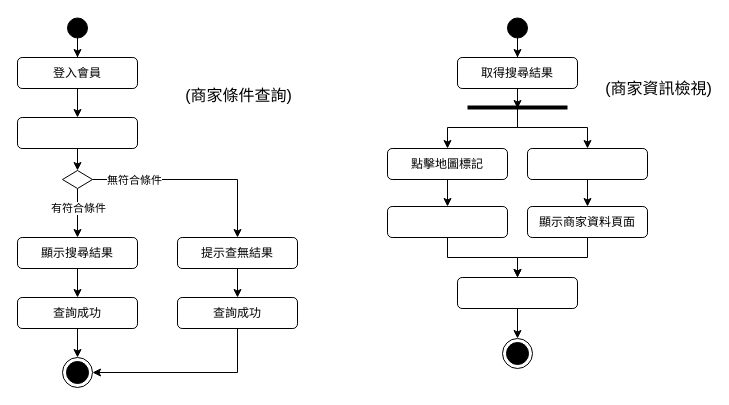
Image size: 729x405. Some labels were removed from this diagram. The centre of each missing label's shape, as x and y in pixels:
"檢視完畢" belongs at point (517, 292).
"設定查詢條件" belongs at point (77, 132).
"顯示標記資訊" belongs at point (447, 222).
"點擊商家列表" belongs at point (587, 164).
